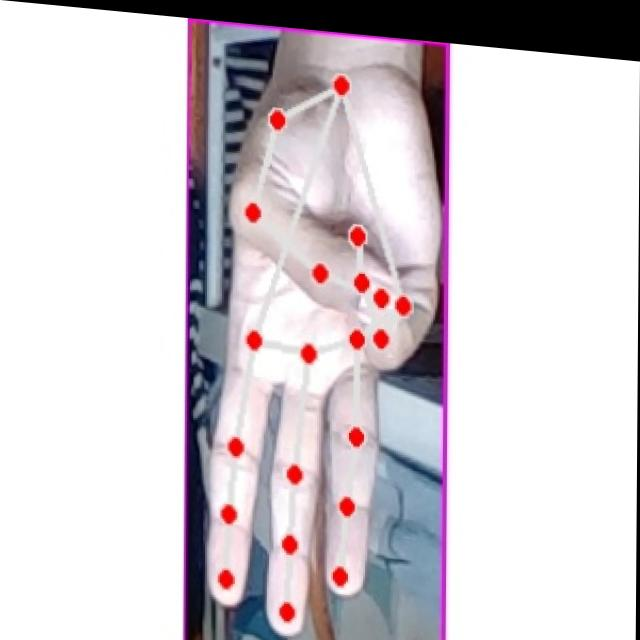W: (203, 37, 441, 640)
